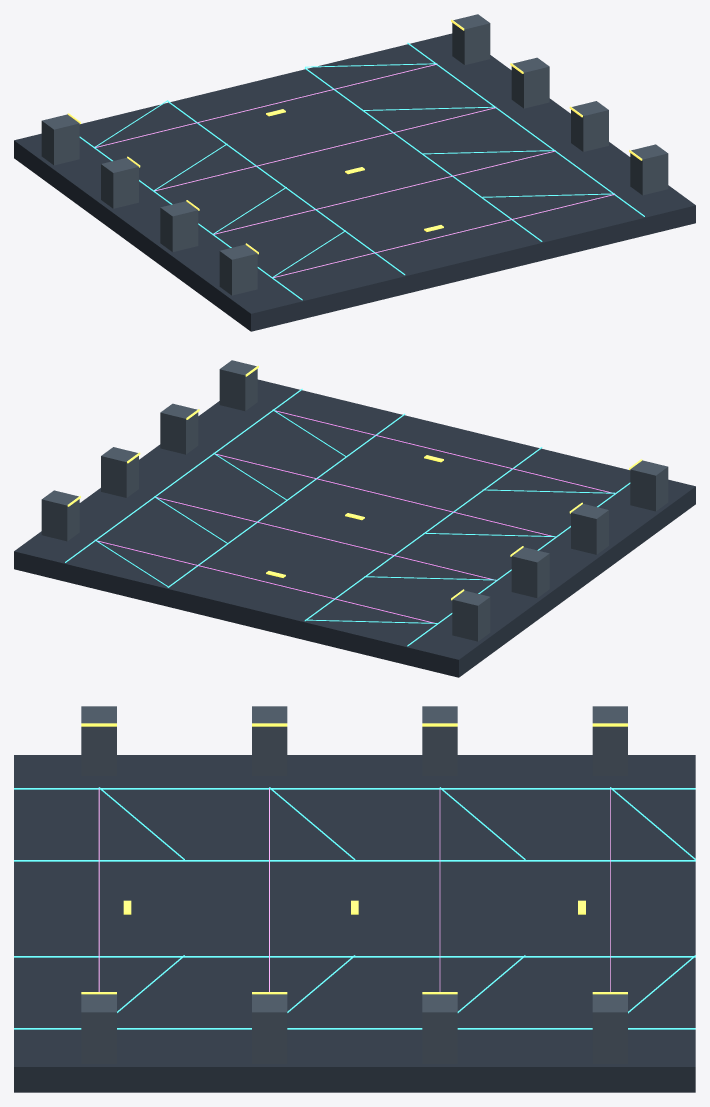
File: open_causeway.glb
3 views of the same model, one above another, from view 1: azimuth 30°, elevation 25°; view 2: azimuth 150°, elevation 25°; view 3: azimuth 270°, elevation 25° (orthographic). The views are drawn at different scales.
Visible parts, largest first — view 1: open_causeway; view 2: open_causeway; view 3: open_causeway.
Part boxes in pixels (<box>): open_causeway: <box>14,14,695,331</box>; open_causeway: <box>14,360,695,677</box>; open_causeway: <box>14,706,695,1092</box>.
Bounding box in the file's own units: 104 × 12.2 × 96.06.
